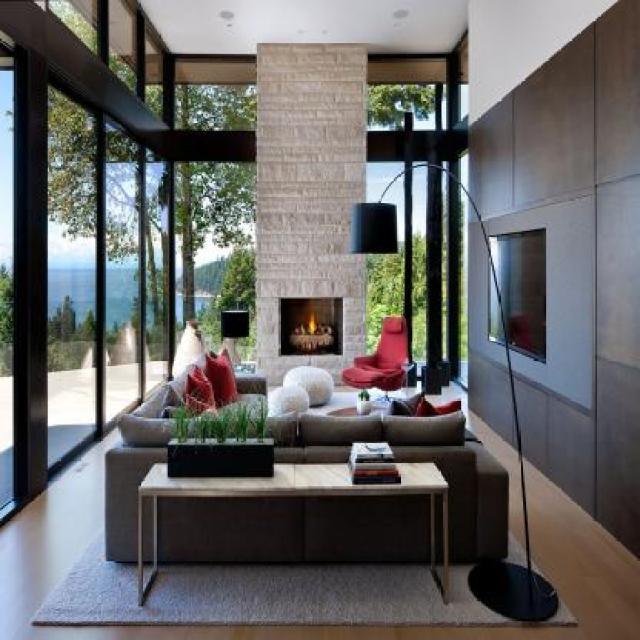Floor: (0, 427, 640, 639), (424, 379, 526, 553), (407, 380, 422, 399), (388, 388, 406, 398), (333, 387, 359, 393)
